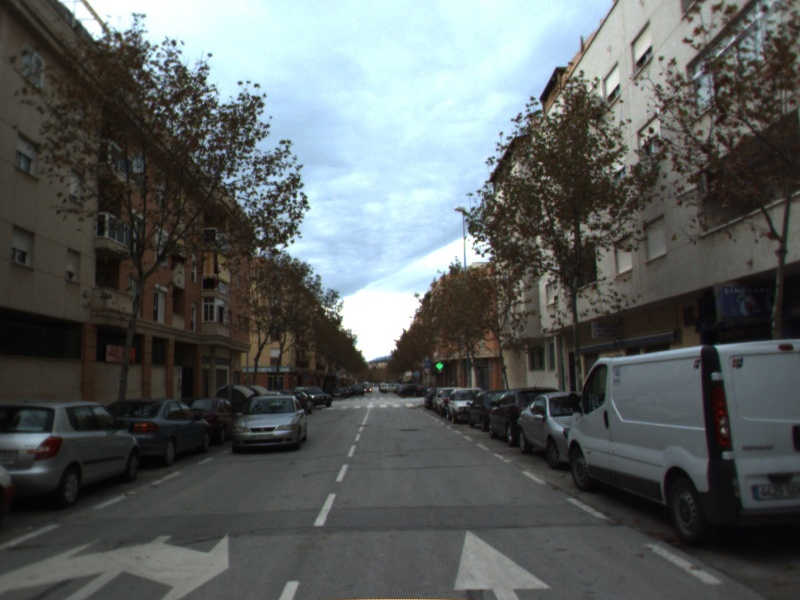STRAIGHT: (450, 525, 554, 600)
